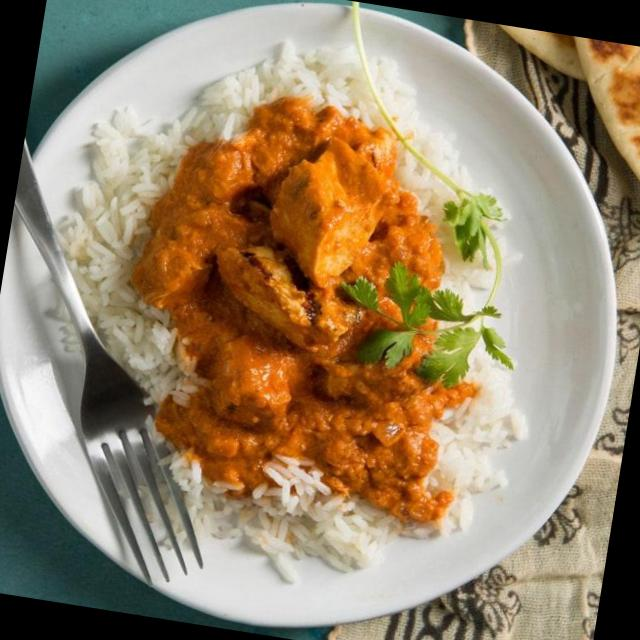chicken: (164, 126, 462, 499)
